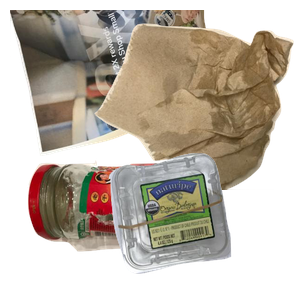glass: (25, 155, 227, 300)
paper: (10, 10, 233, 158)
plastic: (106, 151, 300, 300)
trash: (92, 21, 300, 201)
